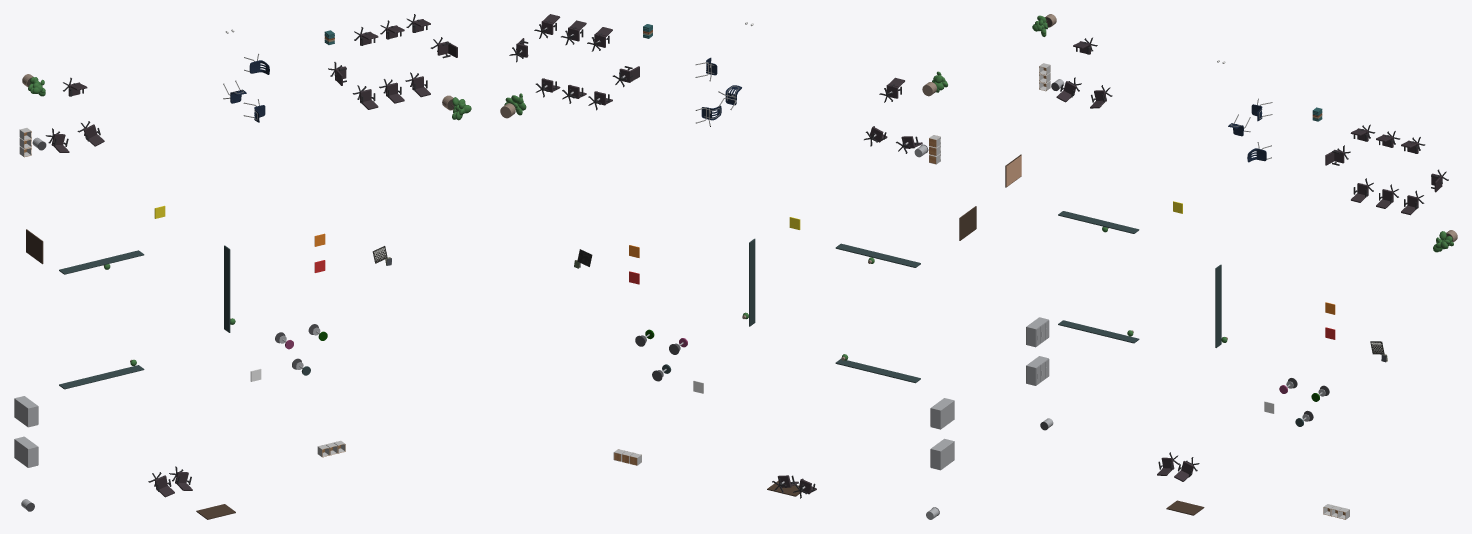
The model's file is furniture_misc.glb.
3 views of the same model, side by side, from view 1: azimuth 30°, elevation 25°; view 2: azimuth 150°, elevation 25°; view 3: azimuth 330°, elevation 25° (orthographic). The views are drawn at different scales.
Parts seen in each view (by area): view 1: cabinet2_body, cabinet0_body, podC_divider, podA_divider, podB_divider; view 2: cabinet0_body, cabinet2_body, podC_divider, podA_divider, podB_divider; view 3: podC_divider, podB_divider, podA_divider.
Boxes of the visible parts, x1,y1,x2,y2 form: cabinet2_body: (14,396,38,427); cabinet0_body: (14,436,38,467); podC_divider: (224,245,230,332); podA_divider: (59,250,144,274); podB_divider: (59,365,144,389); cabinet0_body: (930,438,954,470); cabinet2_body: (930,398,954,429); podC_divider: (749,238,755,326); podA_divider: (835,243,920,267); podB_divider: (835,359,920,383); podC_divider: (1215,264,1221,347); podB_divider: (1058,320,1139,343); podA_divider: (1058,211,1139,233).
Size of the model in its own units: 19.56 by 19.54 by 2.43.
29 materials, 5 textured.
